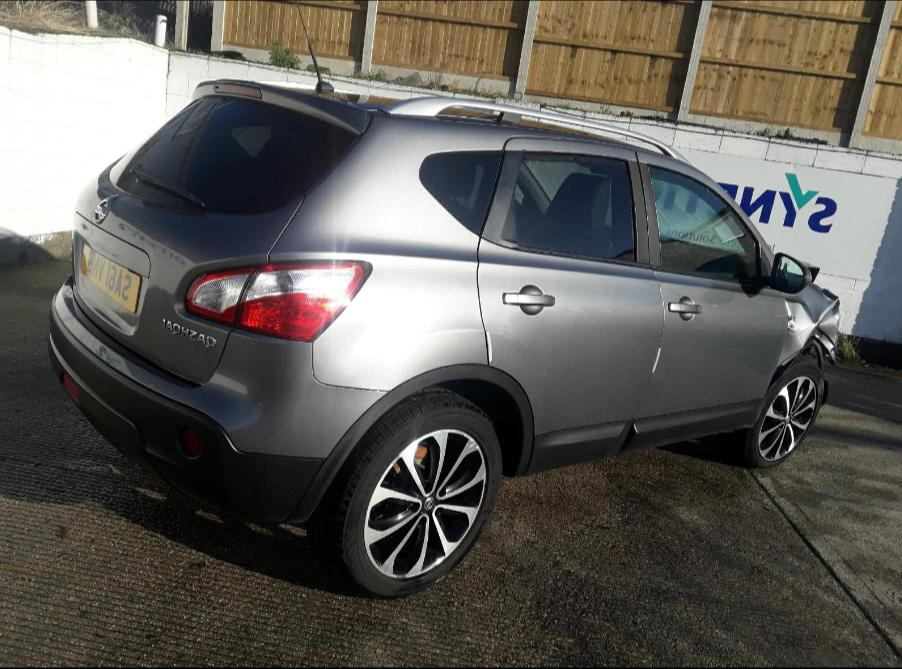Broken part: (777, 283, 843, 368), (795, 257, 822, 282)
